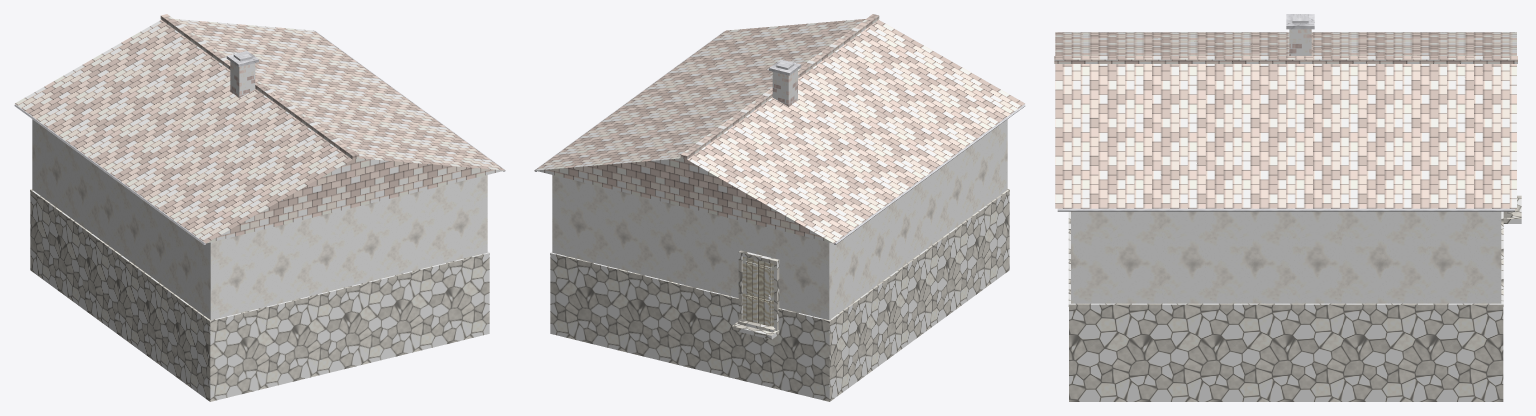
3 views of the same model, side by side, from view 1: azimuth 30°, elevation 25°; view 2: azimuth 150°, elevation 25°; view 3: azimuth 270°, elevation 25° (orthographic). The views are drawn at different scales.
Visible parts, largest first — view 1: b1088806810; view 2: b1088806810; view 3: b1088806810.
Part boxes in pixels (x1,y1,x2,y2): b1088806810: (14,14,505,401); b1088806810: (534,14,1025,401); b1088806810: (1054,14,1521,401).
Bounding box in the file's own units: 9.42 × 7.3 × 10.46.
Materials: 14 (14 with a texture image).
